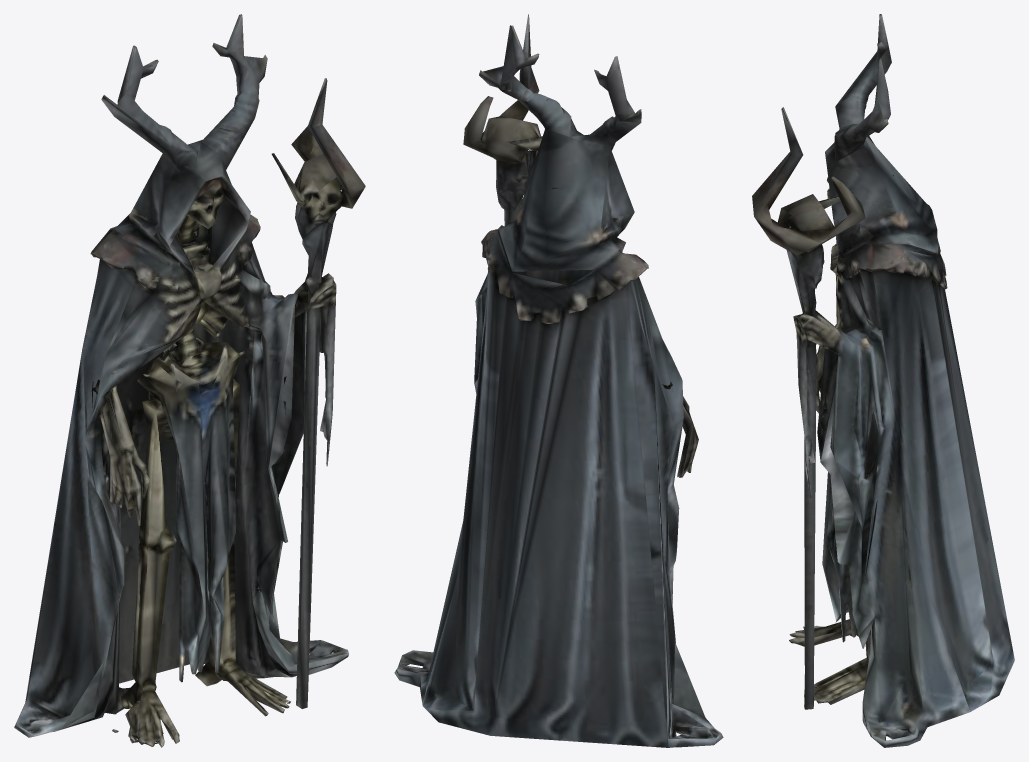
File: knight.glb
The picture shows the model from 3 angles, left to right: view 1: azimuth 30°, elevation 25°; view 2: azimuth 150°, elevation 25°; view 3: azimuth 270°, elevation 25°; orthographic projection. The views are drawn at different scales.
Parts seen in each view (by area): view 1: file1; view 2: file1; view 3: file1.
Boxes of the visible parts, x1,y1,x2,y2 form: file1: (14, 14, 365, 747); file1: (394, 14, 723, 747); file1: (752, 14, 1014, 747).
Bounding box in the file's own units: 0.9775 × 1.93 × 0.7188.
1 material, 1 textured.
